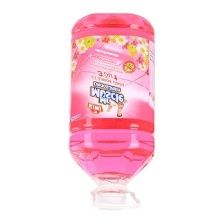cleaning_solution: (66, 9, 158, 215)
